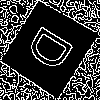D: (24, 24, 84, 79)
